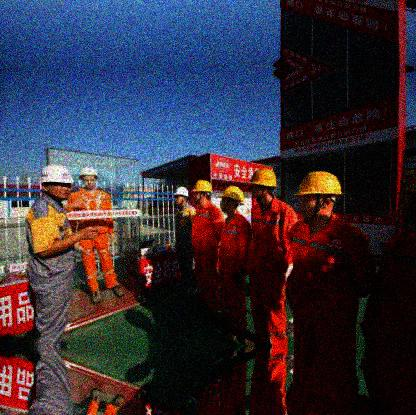helmet: (293, 171, 345, 219), (38, 164, 72, 200), (250, 169, 276, 199), (220, 186, 246, 214), (193, 180, 214, 206), (79, 167, 98, 191), (173, 186, 191, 210)
